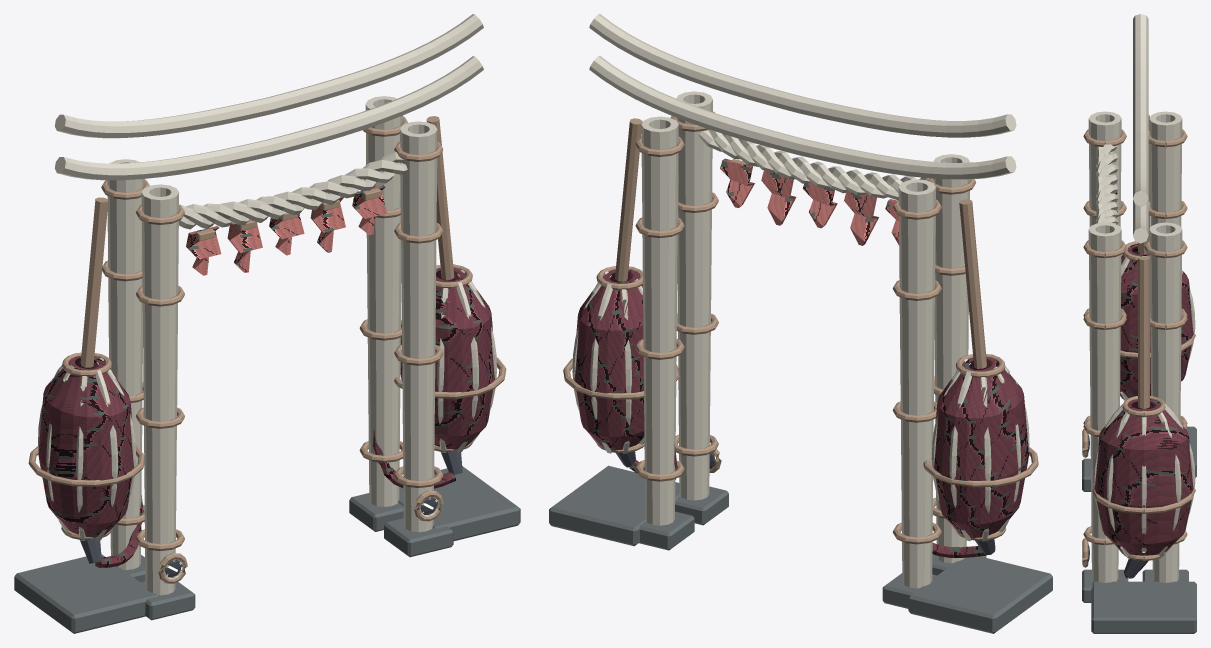
File: processional_bound_drums.glb
3 views of the same model, side by side, from view 1: azimuth 30°, elevation 25°; view 2: azimuth 150°, elevation 25°; view 3: azimuth 270°, elevation 25° (orthographic). The views are drawn at different scales.
Parts seen in each view (by area): view 1: processional_bound_drums_warm, processional_bound_drums_bruised, processional_bound_drums_petrol, processional_bound_drums_worn, processional_bound_drums_suture, processional_bound_drums_deep; view 2: processional_bound_drums_warm, processional_bound_drums_bruised, processional_bound_drums_petrol, processional_bound_drums_worn, processional_bound_drums_suture; view 3: processional_bound_drums_warm, processional_bound_drums_bruised, processional_bound_drums_worn, processional_bound_drums_petrol, processional_bound_drums_deep.
Boxes of the visible parts, x1=… form: processional_bound_drums_warm: x1=38, y1=14, x2=496, y2=595; processional_bound_drums_bruised: x1=38, y1=267, x2=494, y2=567; processional_bound_drums_petrol: x1=14, y1=466, x2=520, y2=633; processional_bound_drums_worn: x1=28, y1=116, x2=506, y2=583; processional_bound_drums_suture: x1=186, y1=185, x2=387, y2=275; processional_bound_drums_deep: x1=80, y1=451, x2=462, y2=577; processional_bound_drums_warm: x1=572, y1=14, x2=1029, y2=588; processional_bound_drums_bruised: x1=574, y1=269, x2=1028, y2=557; processional_bound_drums_petrol: x1=549, y1=465, x2=1052, y2=633; processional_bound_drums_worn: x1=563, y1=111, x2=1038, y2=544; processional_bound_drums_suture: x1=720, y1=158, x2=899, y2=245; processional_bound_drums_warm: x1=1082, y1=14, x2=1195, y2=582; processional_bound_drums_bruised: x1=1094, y1=244, x2=1193, y2=578; processional_bound_drums_worn: x1=1082, y1=115, x2=1195, y2=567; processional_bound_drums_petrol: x1=1082, y1=426, x2=1196, y2=633; processional_bound_drums_deep: x1=1086, y1=434, x2=1147, y2=578.
Bounding box in the file's own units: 7.13 × 7.3 × 1.75.
Materials: 7 (2 with a texture image).
